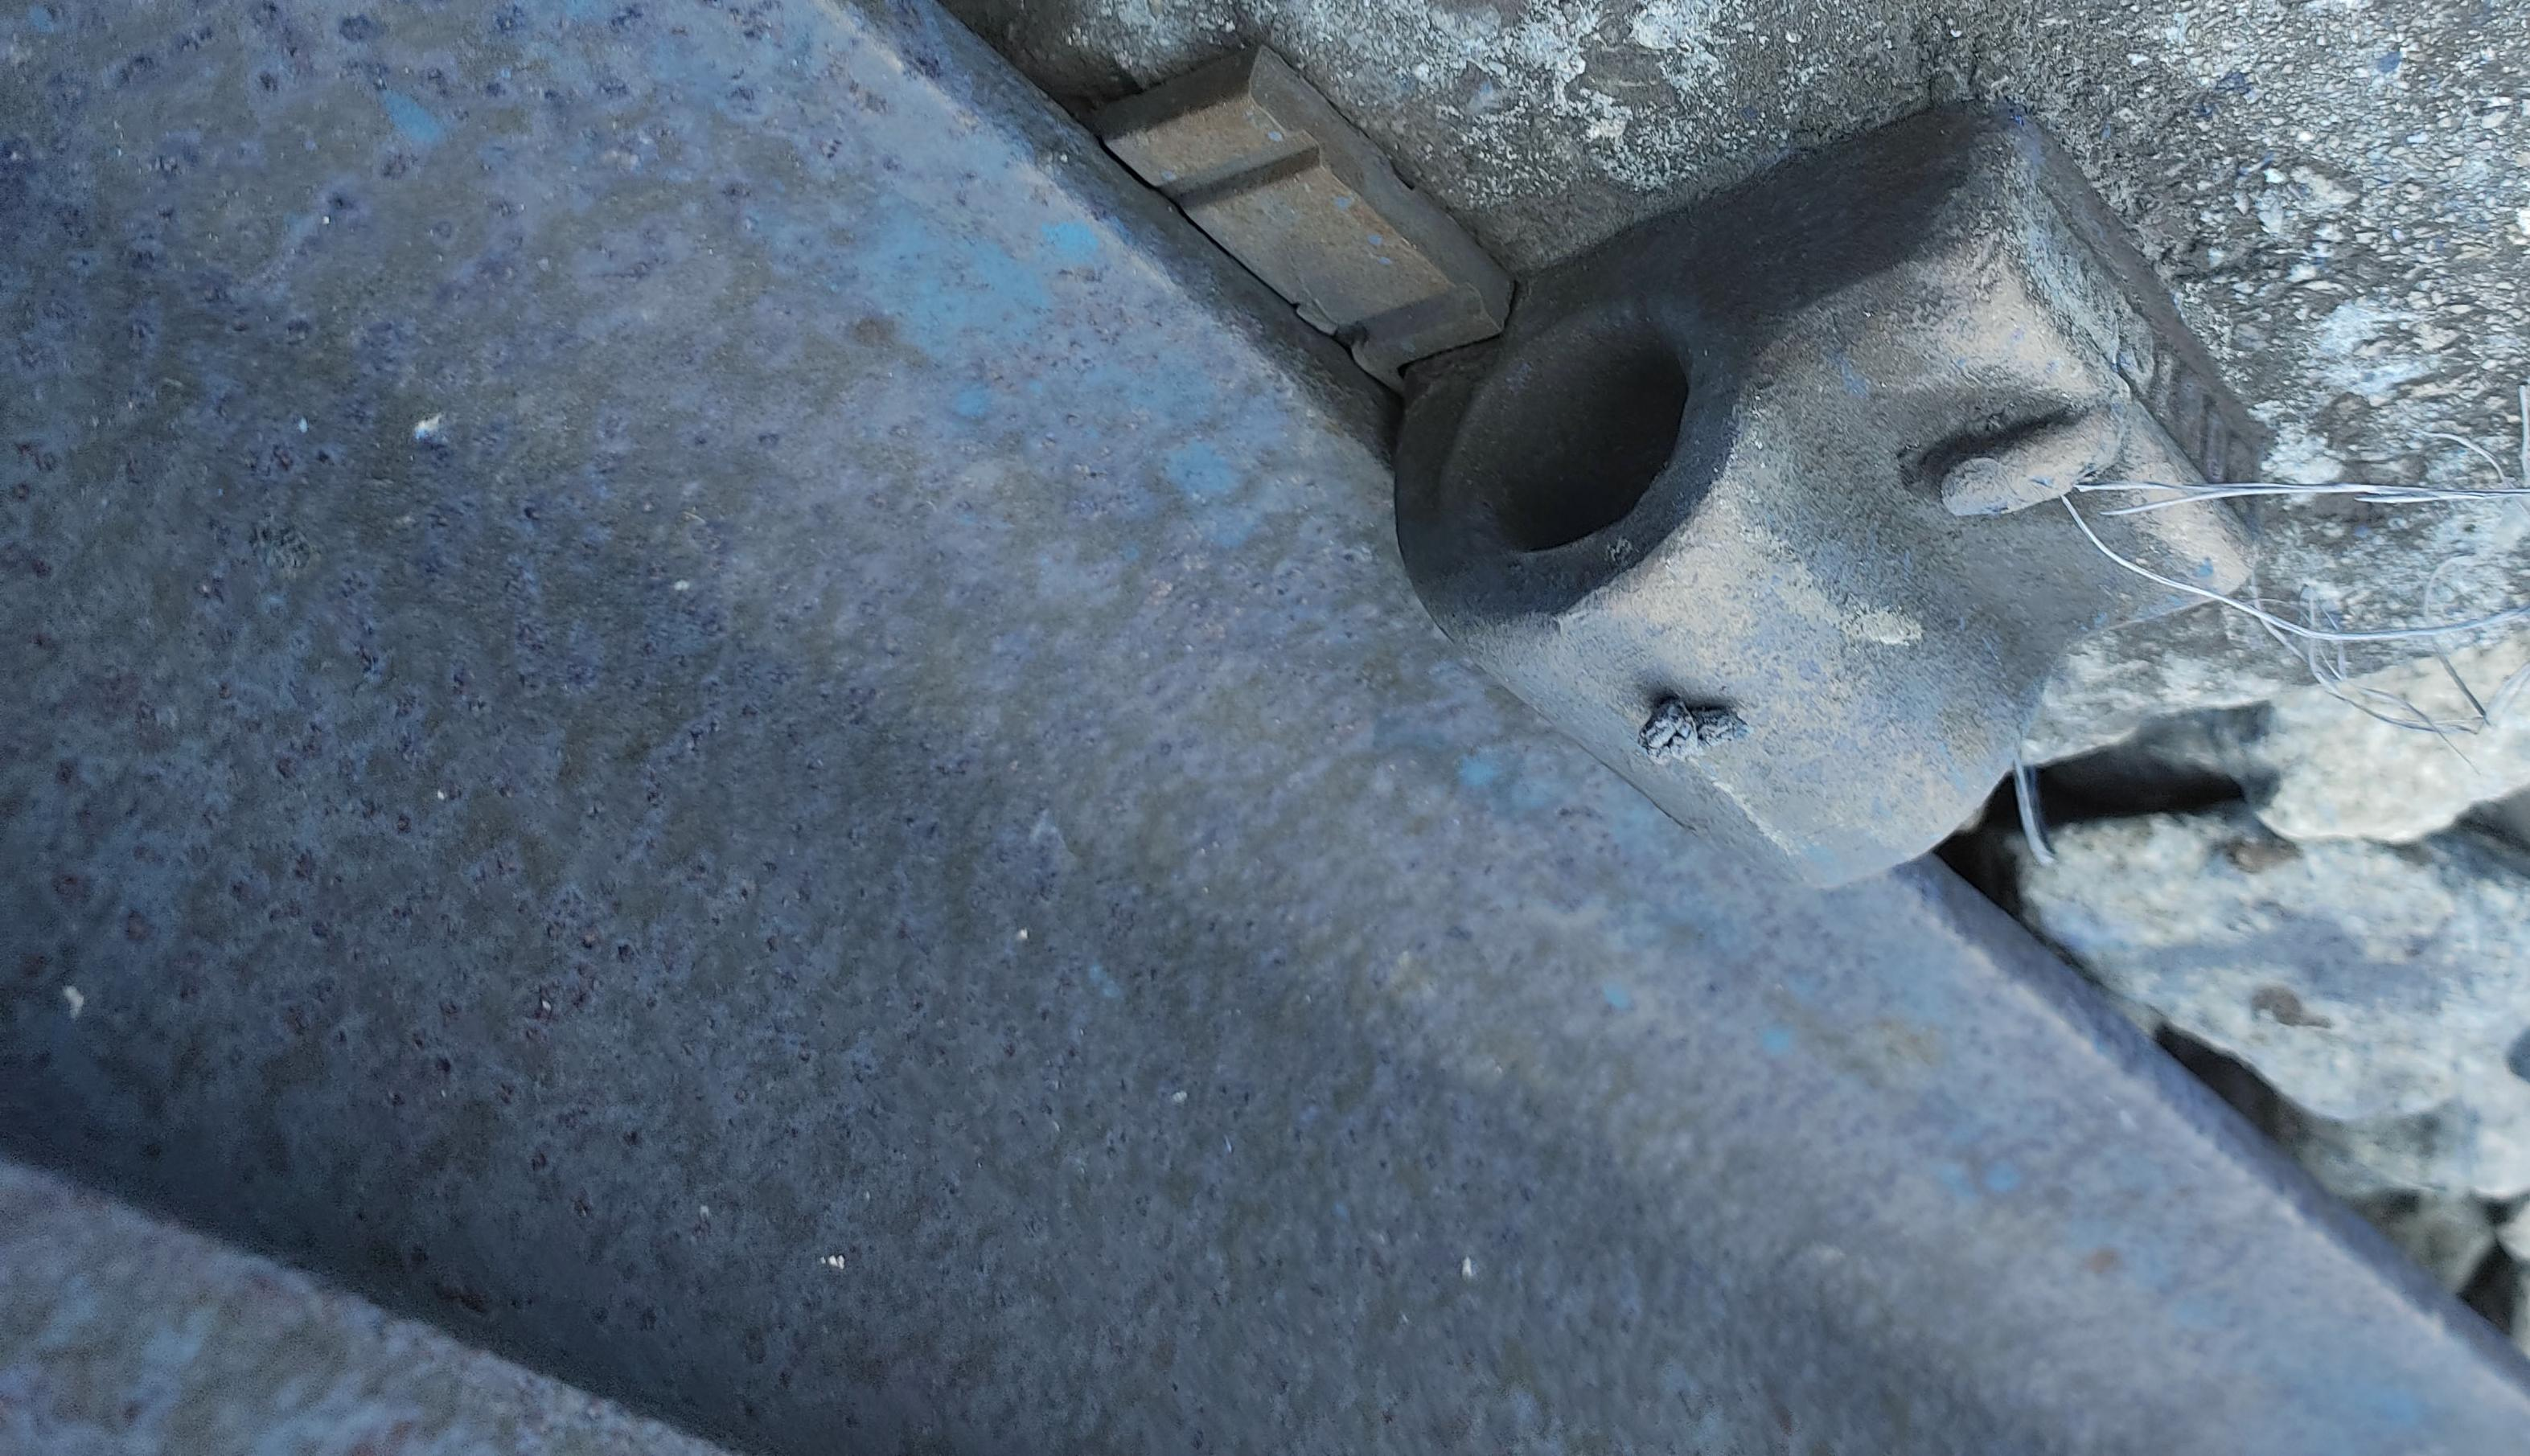error1: (1312, 167, 2236, 975)
